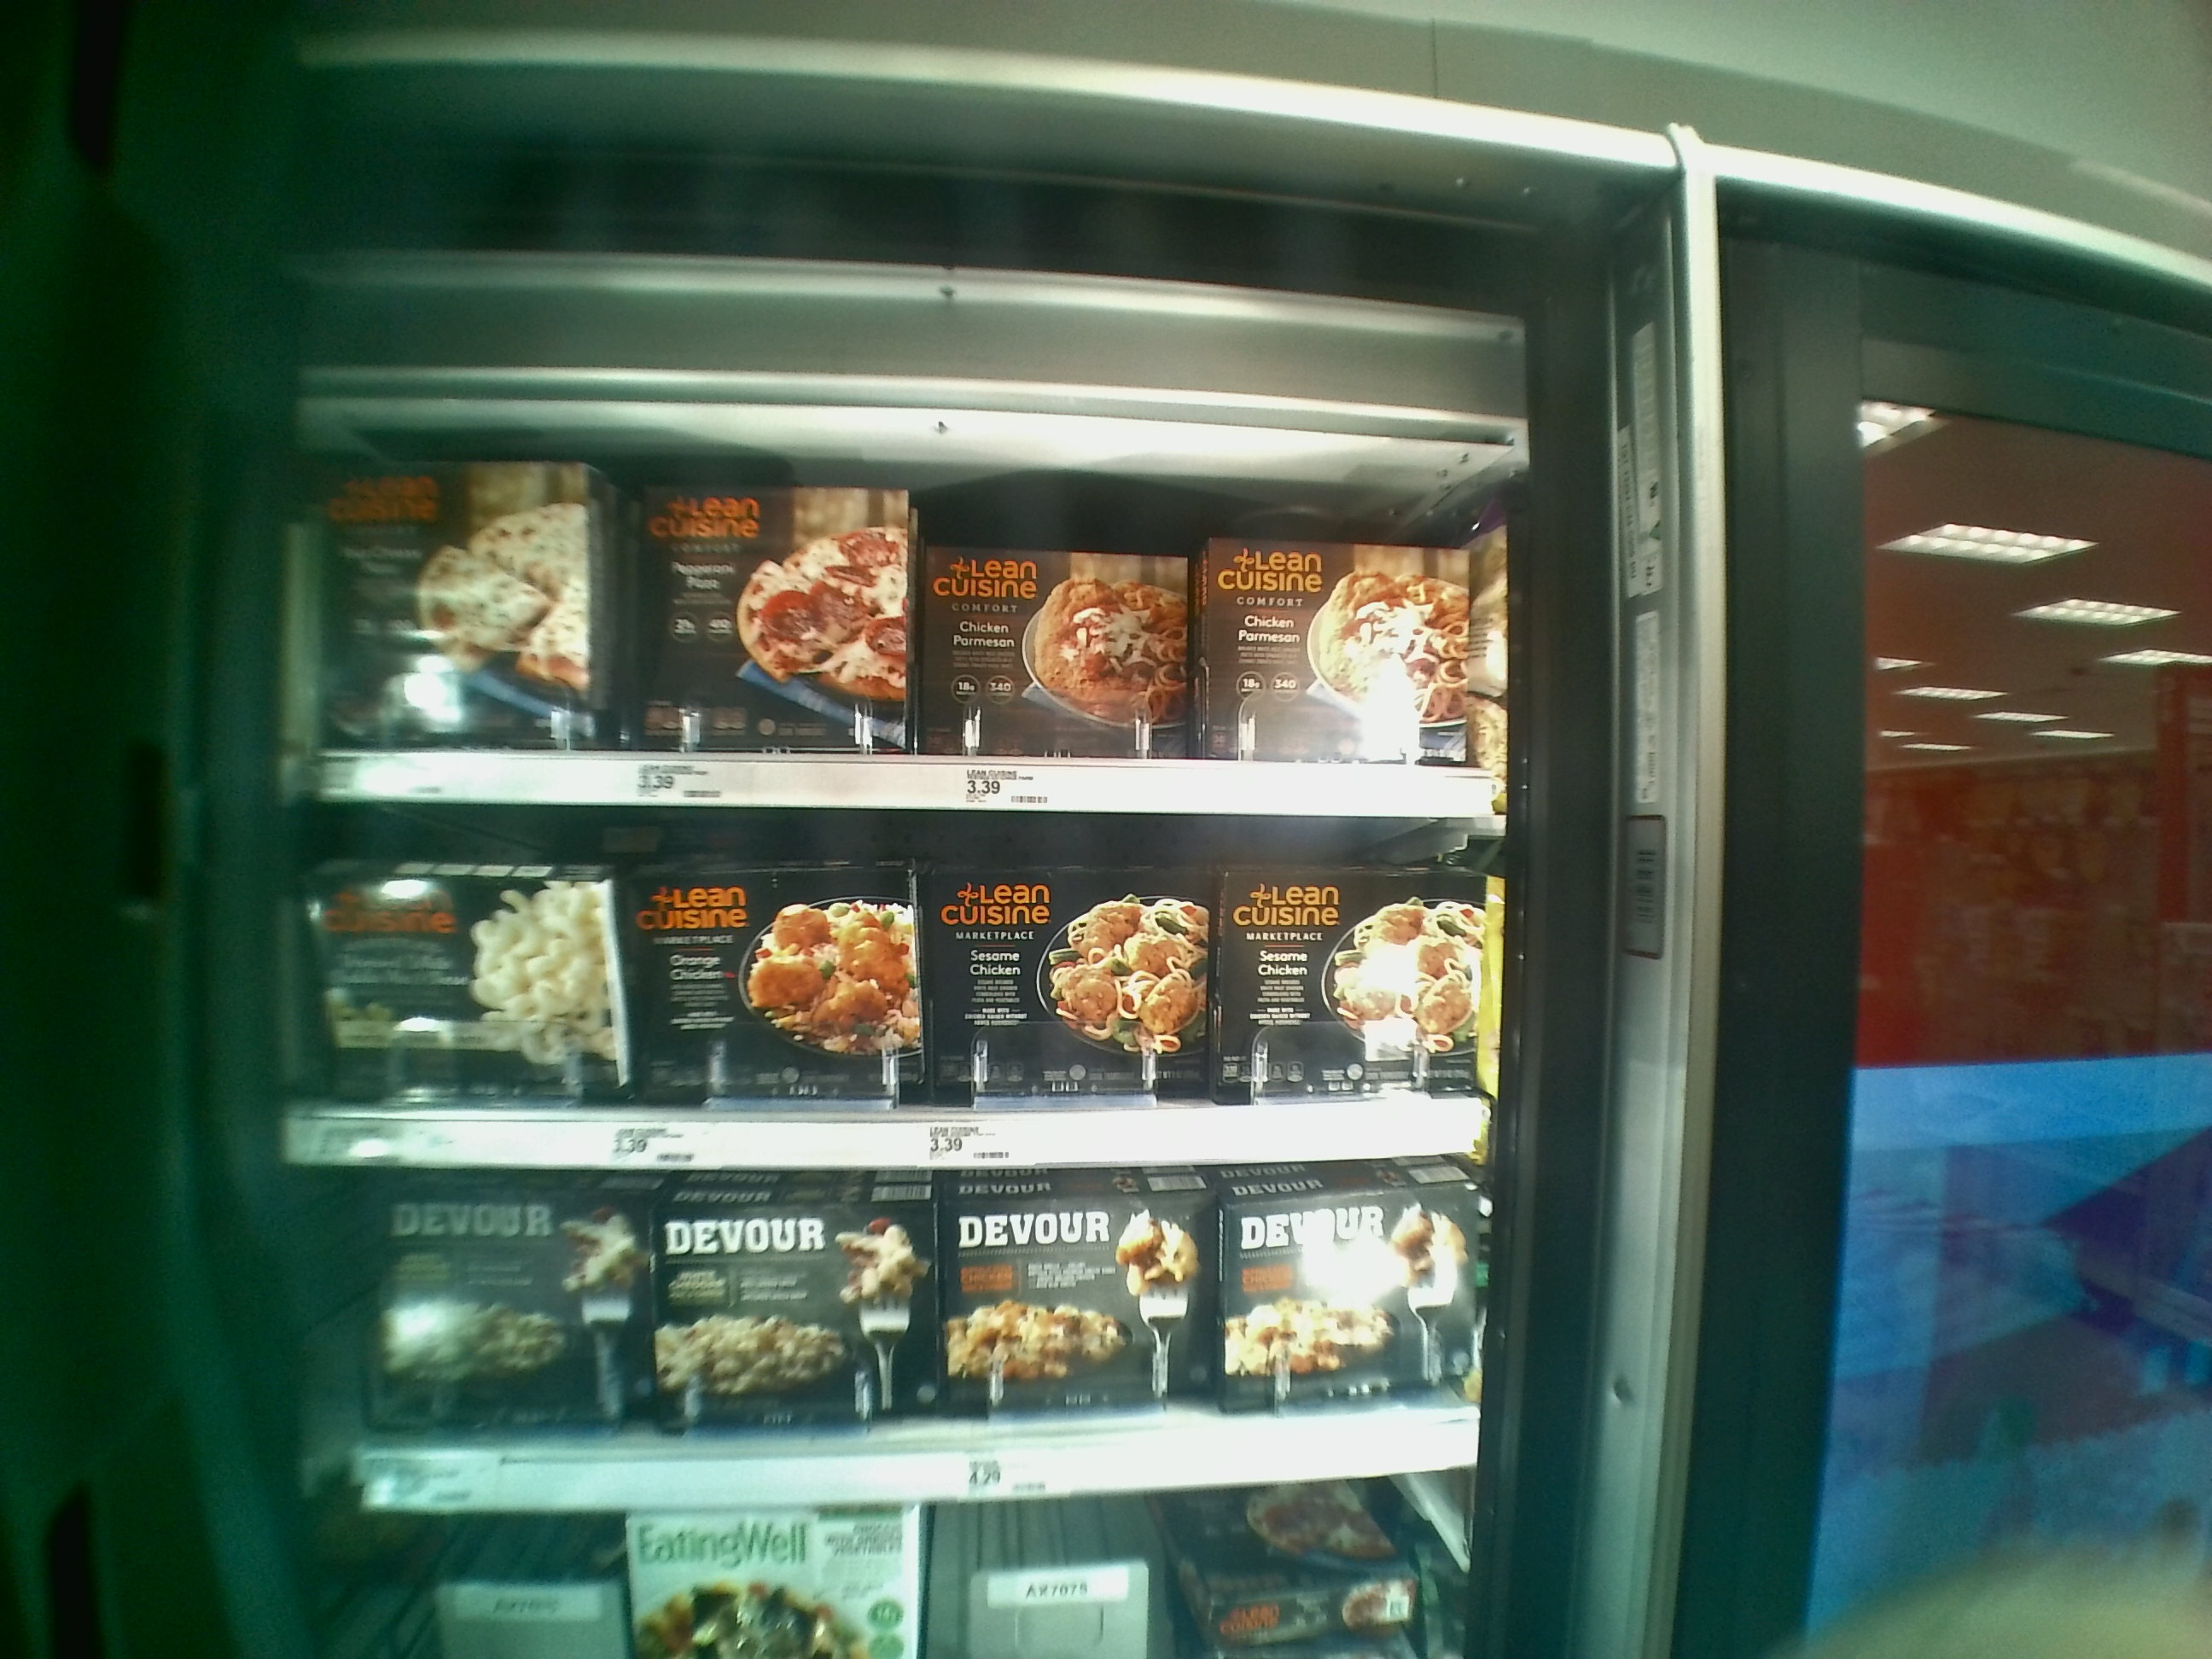shelf: (291, 373, 1501, 817), (291, 802, 1503, 1161), (286, 1168, 1501, 1516)
